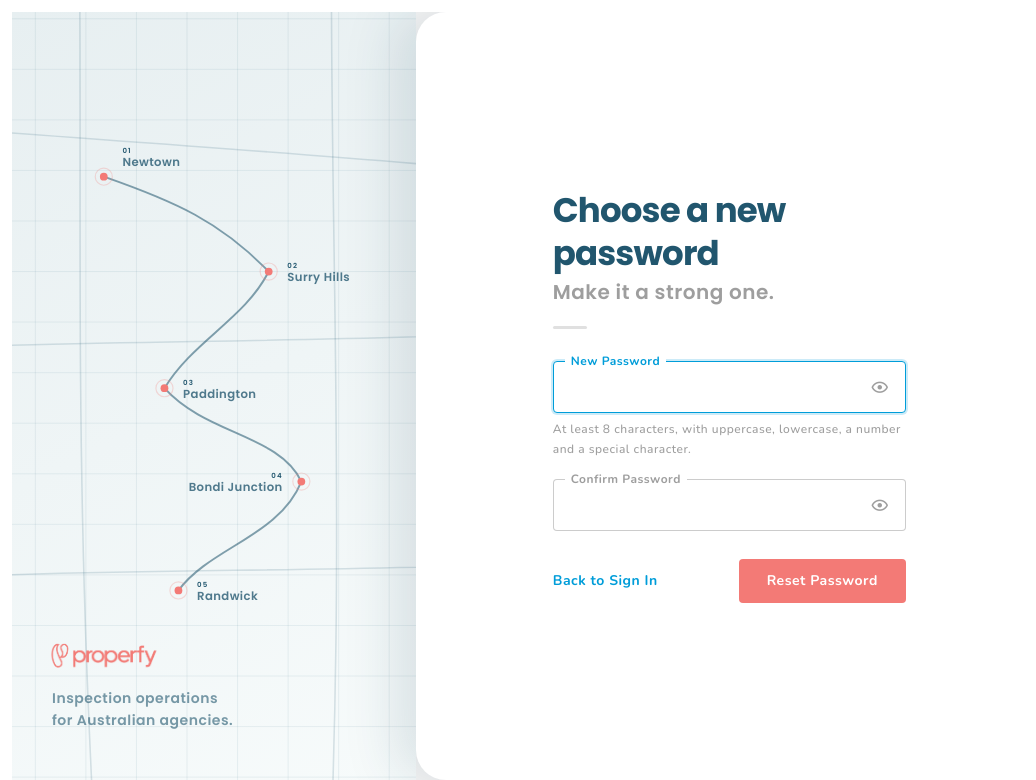
Test: ResetPasswordPage › shows validation error when passwords do not match
This screenshot has width=1036, height=780.
Type "Str0ng!Pass" into the password field labelled "New Password" at (729,387), box [553,361,906,413]
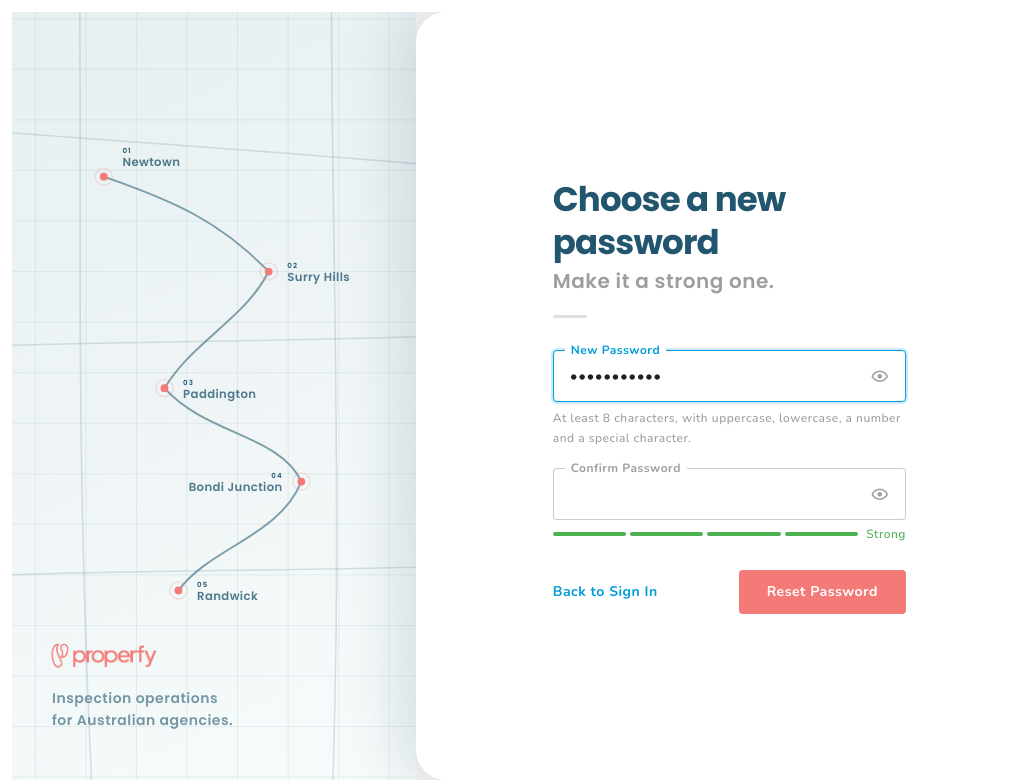
Type "Different!1" into the password field labelled "Confirm Password" at (729,494), box [553,468,906,520]
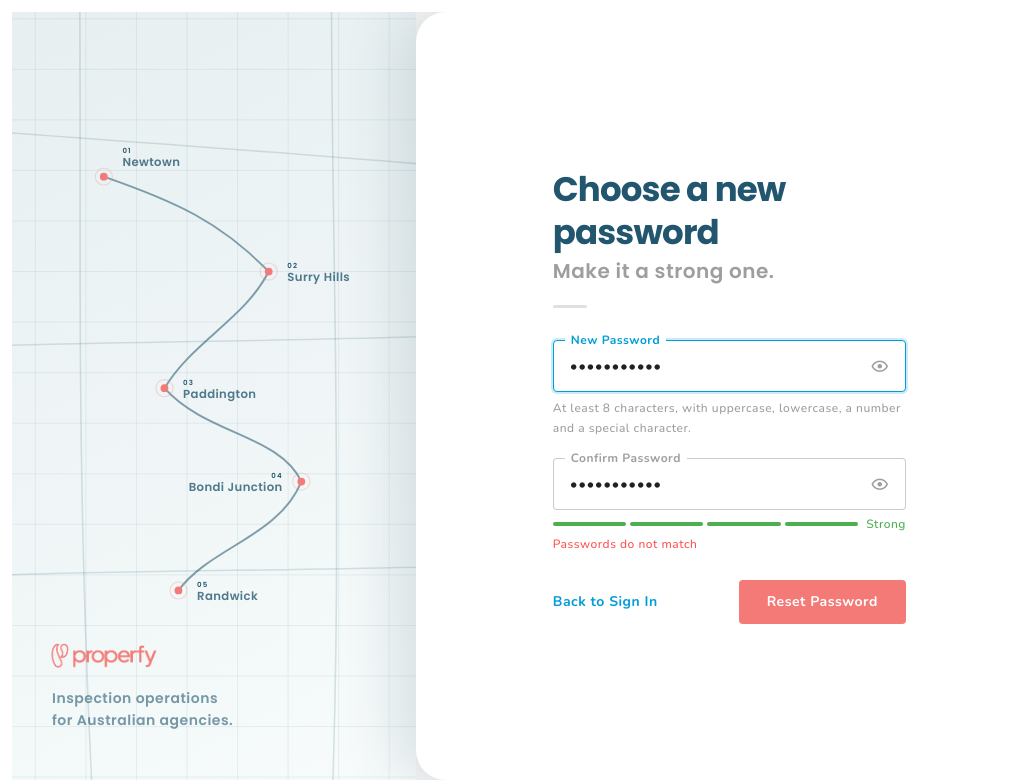
Click the button "Reset Password" at (822,602), box [739,580,906,624]
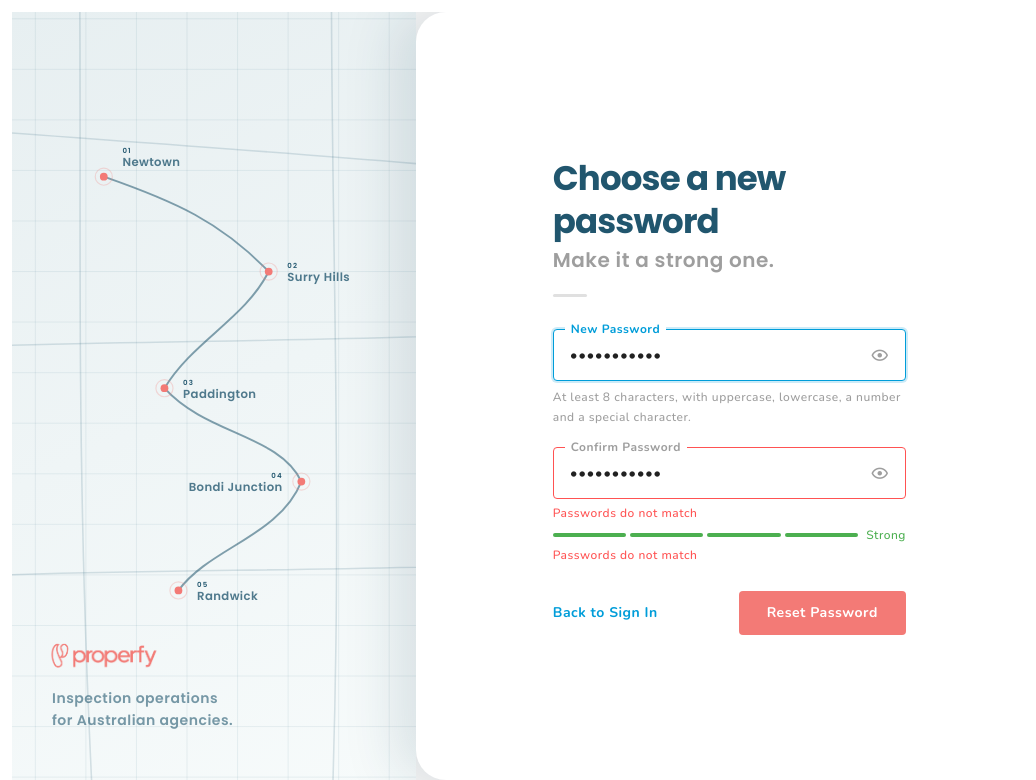
Result: the text "Passwords do not match" below "Confirm Password" is shown at [553,505,697,521]
